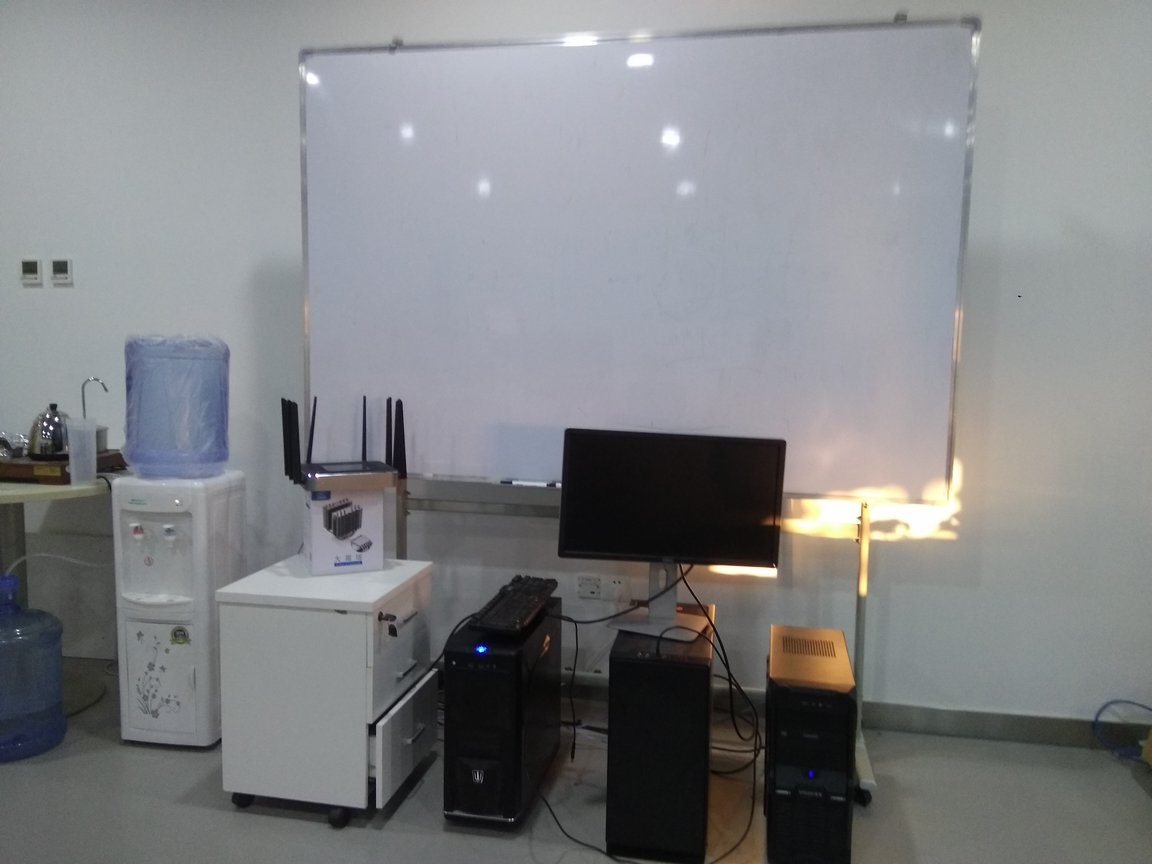computer: (756, 630, 886, 864), (442, 590, 562, 832), (613, 593, 720, 864)
drawer chest: (215, 541, 429, 835)
monitor: (560, 423, 789, 643)
scuttlebutt: (119, 331, 232, 472), (1, 602, 73, 774)
water dispenser: (115, 467, 221, 753)
